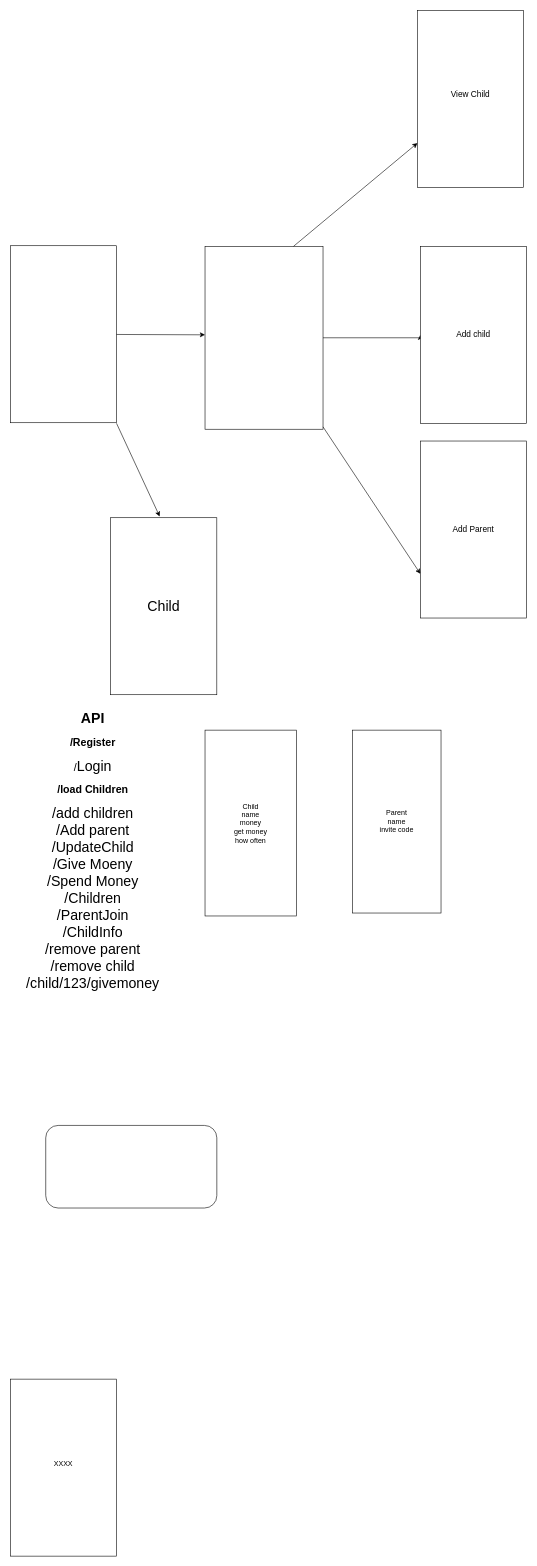
Some shapes in this 537 by 1566 pixel diagram are drawn without their labels. The centre of each missing label's shape, as x and y in pixels:
"AA" goes at point (131, 1166).
"Login Register Child Jon parent join" goes at point (63, 334).
"start list chikdren add child add parent" goes at point (263, 337).
